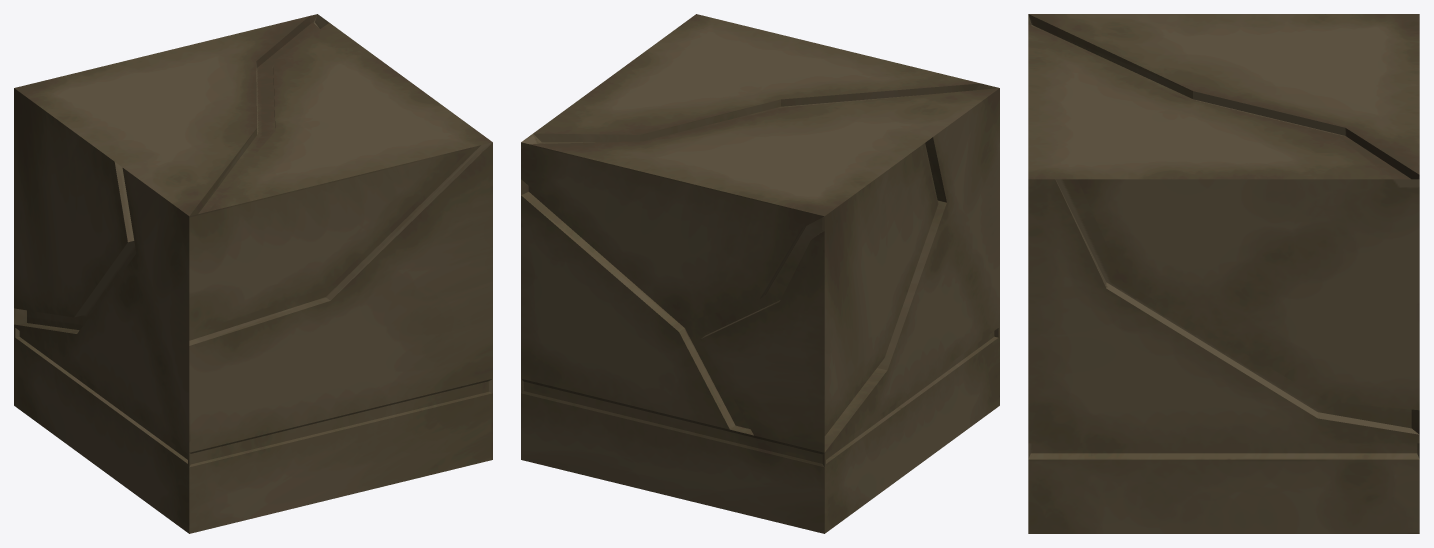
The model's file is LightWall.fbx.
3 views of the same model, side by side, from view 1: azimuth 30°, elevation 25°; view 2: azimuth 150°, elevation 25°; view 3: azimuth 270°, elevation 25° (orthographic). The views are drawn at different scales.
Parts seen in each view (by area): view 1: NewNormalWall; view 2: NewNormalWall; view 3: NewNormalWall.
Part boxes in pixels (x1,y1,x2,y2): NewNormalWall: (14, 14, 492, 533); NewNormalWall: (521, 14, 999, 533); NewNormalWall: (1028, 14, 1419, 533).
Size of the model in its own units: 98.03 by 98.03 by 98.03.
